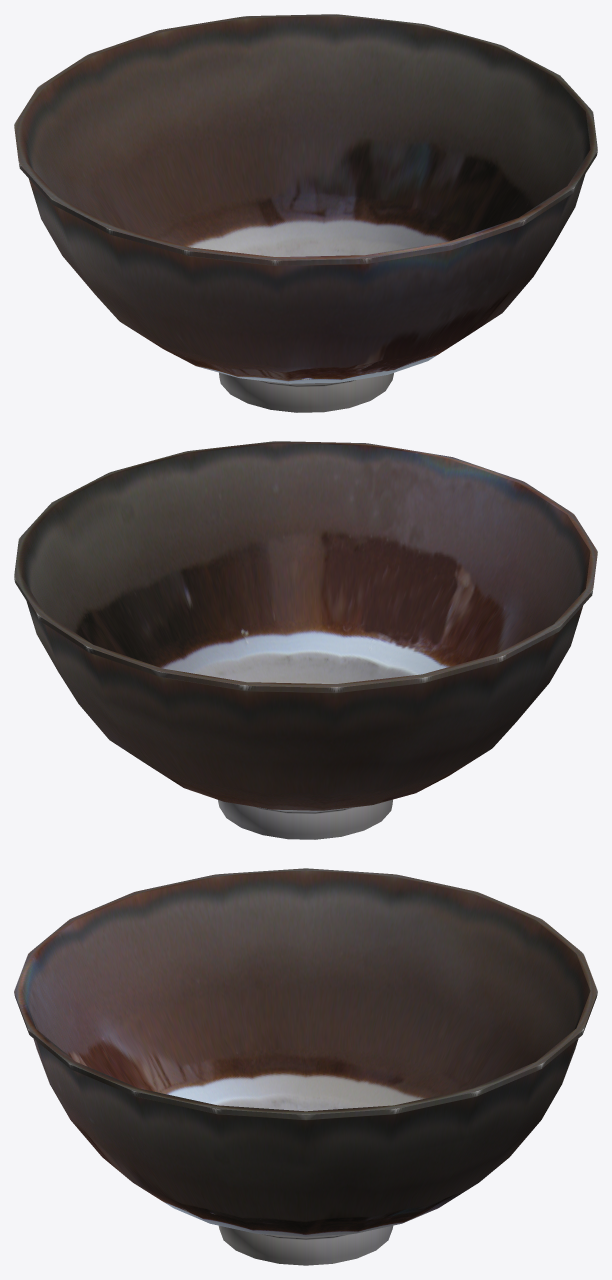
File: donburi.fbx
The picture shows the model from 3 angles, top to bottom: view 1: azimuth 30°, elevation 25°; view 2: azimuth 150°, elevation 25°; view 3: azimuth 270°, elevation 25°; orthographic projection.
Visible parts, largest first — view 1: donburi; view 2: donburi; view 3: donburi.
Part boxes in pixels (x1,y1,x2,y2): donburi: (14, 14, 597, 412); donburi: (14, 441, 597, 839); donburi: (14, 868, 597, 1265).
Bounding box in the file's own units: 12.99 × 5.84 × 12.99.
1 material, 1 textured.
